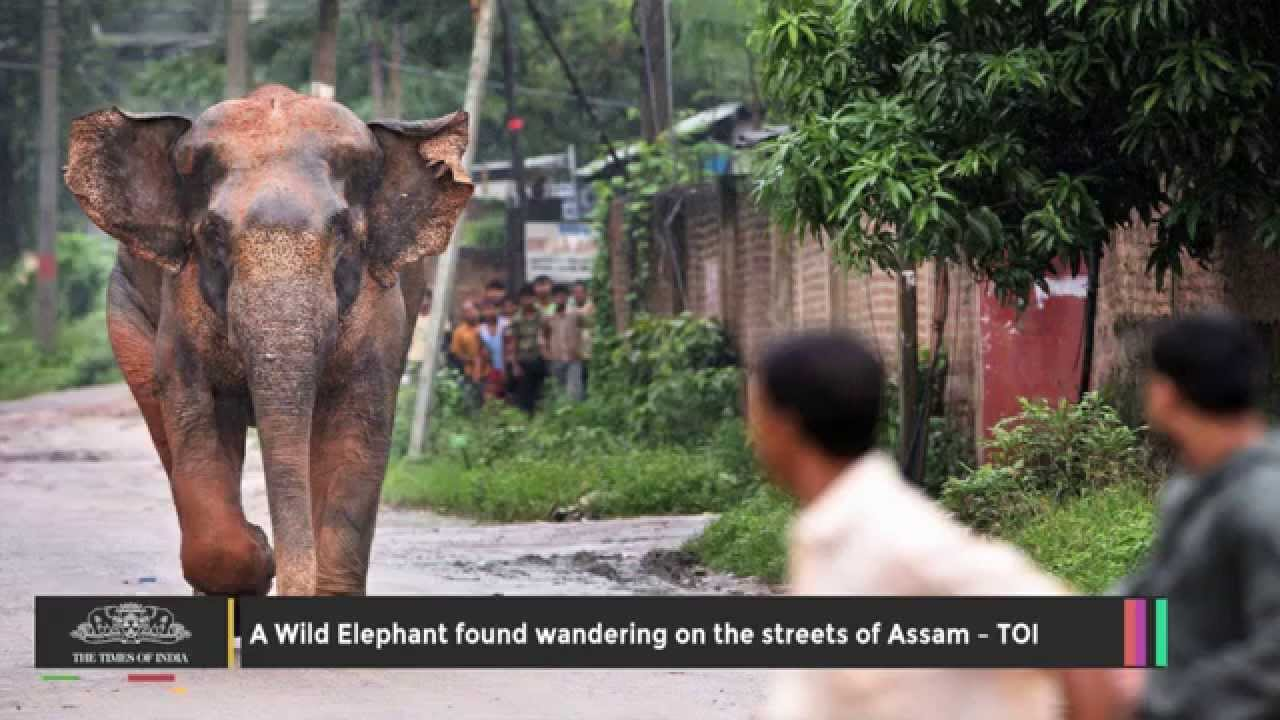Indian Elephant: (56, 77, 474, 612)
